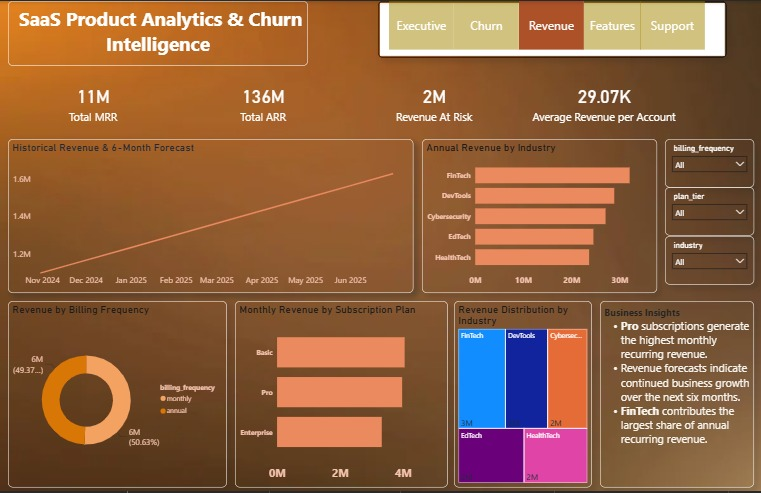

Layout of this report page (visuals, bound fields, positions):
{"tool":"powerbi","page":{"name":"Revenue Intelligence","canvas":[1503,967],"ordinal":2},"visuals":[{"type":"card","title":"Monthly Recurring Revenue","fields":{"Values":["DAX_Measures.Total MRR"]},"box":[16,144,336,112],"z":0},{"type":"card","title":"Annual Recurring Revenue","fields":{"Values":["DAX_Measures.Total ARR"]},"box":[352,144,336,112],"z":1000},{"type":"card","title":"Revenue at Risk","fields":{"Values":["DAX_Measures.Revenue At Risk"]},"box":[688,144,336,112],"z":2000},{"type":"card","title":"Average Revenue Per Account","fields":{"Values":["DAX_Measures.Average Revenue per Account"]},"box":[1024,144,336,112],"z":3000},{"type":"clusteredBarChart","title":"Monthly Revenue by Subscription Plan","fields":{"Category":["accounts_clean.plan_tier"],"Y":["DAX_Measures.Total MRR"]},"box":[464,592,420,368],"z":4000},{"type":"clusteredBarChart","title":"Annual Revenue by Industry","fields":{"Y":["DAX_Measures.Total ARR"],"Category":["accounts_clean.industry"]},"box":[832,272,464,304],"z":5000},{"type":"lineChart","title":"Revenue Trend & 6-Month Forecast","fields":{"Y":["Sum(revenue_forecast.yhat)"],"Category":["revenue_forecast.ds"]},"box":[16,272,800,304],"z":6000},{"type":"donutChart","title":"Revenue by Billing Frequency","fields":{"Category":["subscriptions_clean.billing_frequency"],"Y":["DAX_Measures.Total MRR"]},"box":[16,592,432,368],"z":7000},{"type":"treemap","title":"Revenue Distribution by Industry","fields":{"Group":["accounts_clean.industry"],"Values":["DAX_Measures.Total MRR"]},"box":[896,592,272,368],"z":8000},{"type":"slicer","fields":{"Values":["subscriptions_clean.billing_frequency"]},"box":[1312,272,176,96],"z":9000},{"type":"slicer","fields":{"Values":["accounts_clean.plan_tier"]},"box":[1312,368,176,96],"z":10000},{"type":"slicer","fields":{"Values":["accounts_clean.industry"]},"box":[1312,464,176,96],"z":11000},{"type":"textbox","box":[1184,592,304,368],"z":12000},{"type":"shape","box":[745,0,688,112],"z":13000},{"type":"actionButton","title":"Executive","box":[768,0,128,96],"z":14000},{"type":"actionButton","box":[896,0,128,96],"z":15000},{"type":"actionButton","box":[1024,0,128,96],"z":16000},{"type":"actionButton","box":[1152,0,112,96],"z":17000},{"type":"actionButton","box":[1264,0,128,96],"z":18000},{"type":"textbox","box":[16,0,592,128],"z":19000}]}

Visuals, with their boxes in screenshot pixels (x1, y1, x2, y2), scaled from the page's 1503x967 canvas onto the 761x493 screenshot:
"Monthly Recurring Revenue" card: 8,73,178,131
"Annual Recurring Revenue" card: 178,73,348,131
"Revenue at Risk" card: 348,73,518,131
"Average Revenue Per Account" card: 518,73,689,131
"Monthly Revenue by Subscription Plan" clusteredBarChart: 235,302,448,489
"Annual Revenue by Industry" clusteredBarChart: 421,139,656,294
"Revenue Trend & 6-Month Forecast" lineChart: 8,139,413,294
"Revenue by Billing Frequency" donutChart: 8,302,227,489
"Revenue Distribution by Industry" treemap: 454,302,591,489
slicer - subscriptions_clean.billing_frequency: 664,139,753,188
slicer - accounts_clean.plan_tier: 664,188,753,237
slicer - accounts_clean.industry: 664,237,753,286
textbox: 599,302,753,489
shape: 377,0,726,57
"Executive" actionButton: 389,0,454,49
actionButton: 454,0,518,49
actionButton: 518,0,583,49
actionButton: 583,0,640,49
actionButton: 640,0,705,49
textbox: 8,0,308,65
